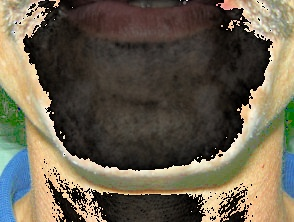vitiligo: (18, 0, 294, 184)
